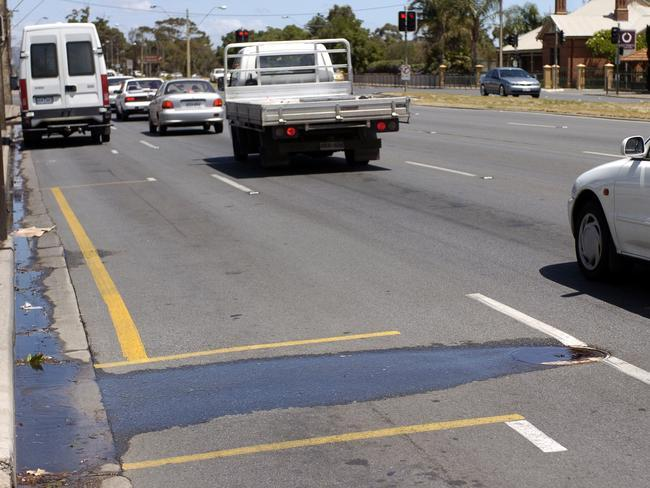water_leak: (35, 335, 614, 456), (10, 223, 107, 484)
